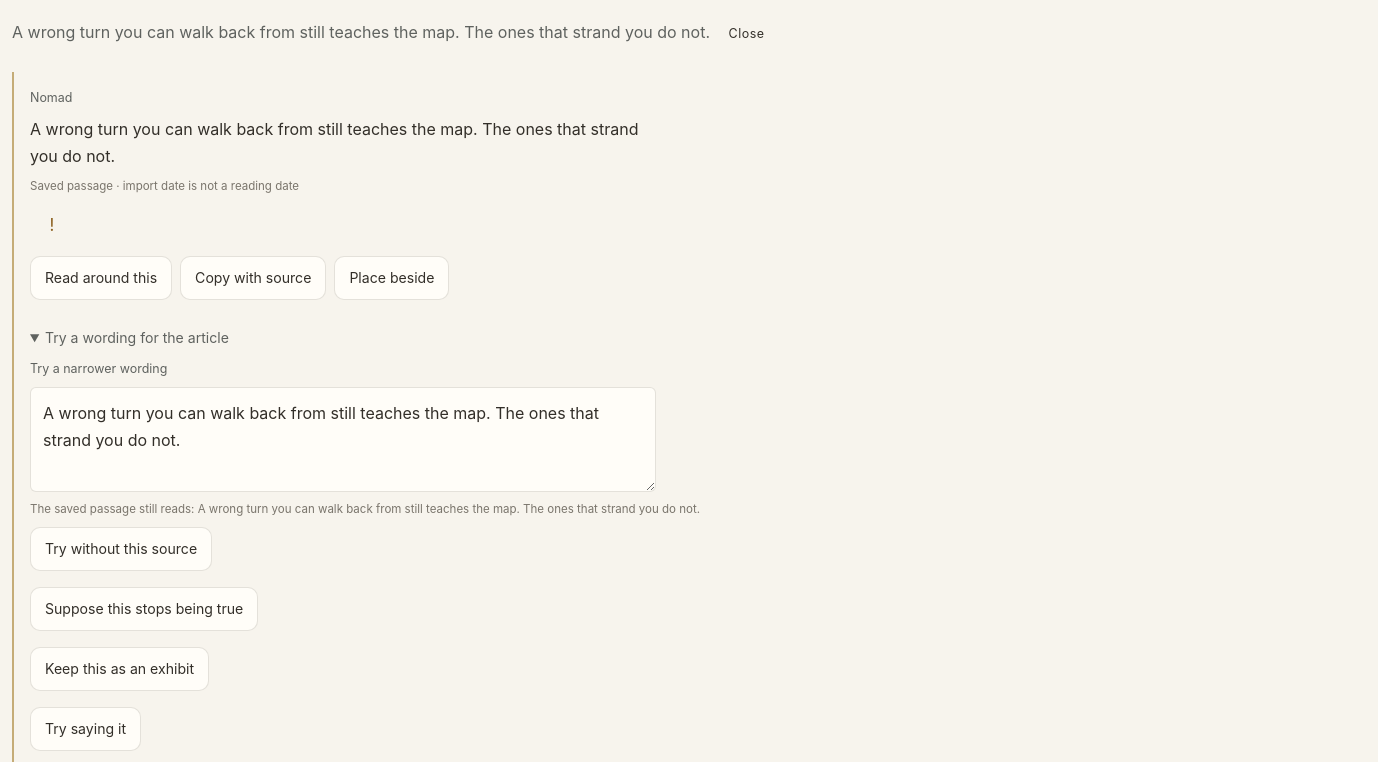
Test case: OpenSentence › lets Place beside name the Wiki thought you walked from
Click the button "Place beside" at [392, 278], box [334,256,449,300]
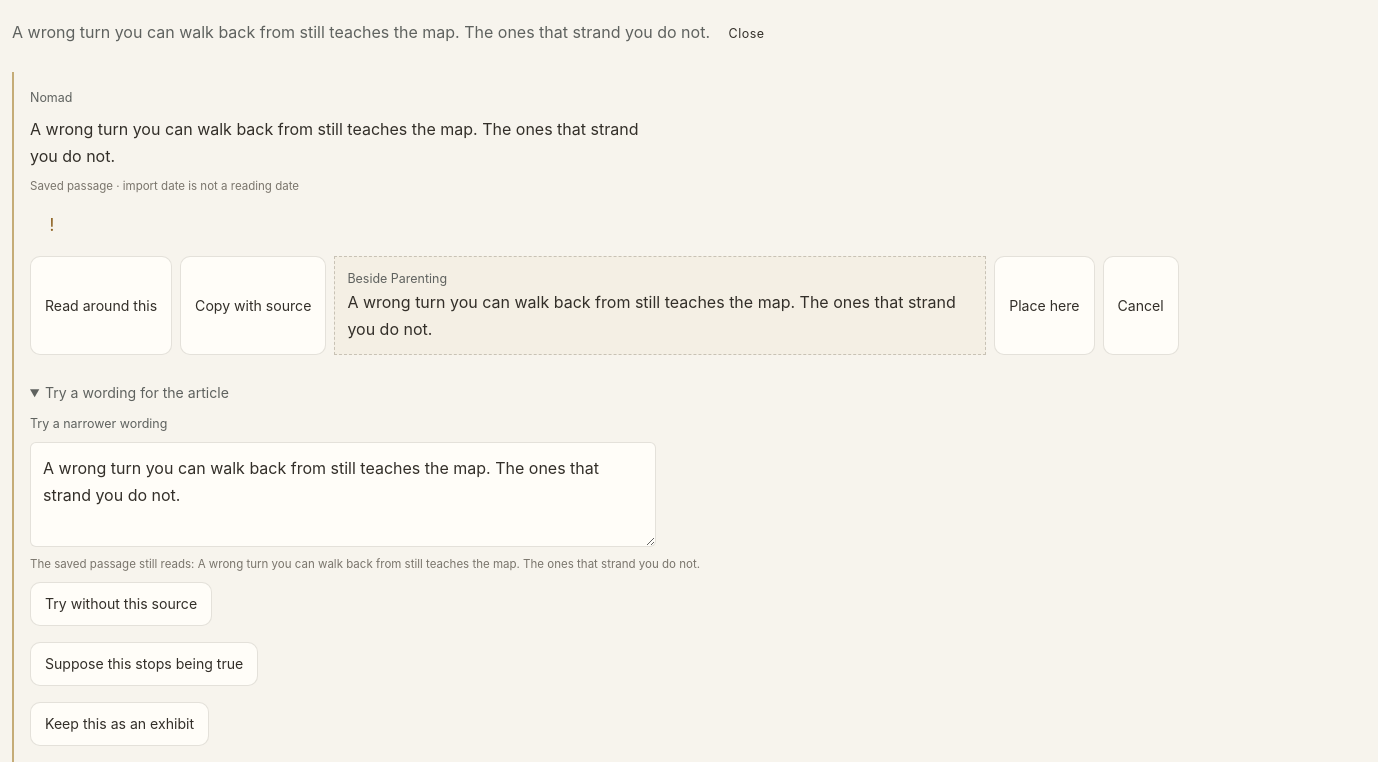
Expected: the text "The saved passage still reads" is shown, [30,557,191,571]
Now the text "Beside Parenting" is shown, box [347,271,447,286]
